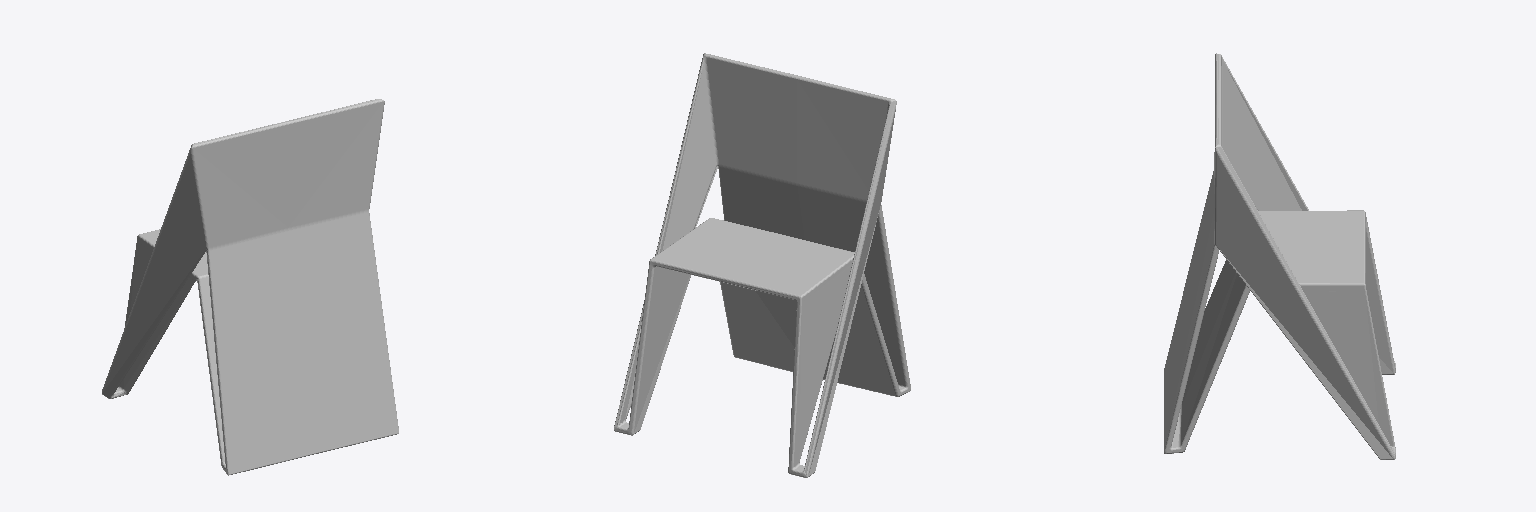
The model's file is modern_chair_A45.obj.
3 renders of one model, left to right at view 1: azimuth 30°, elevation 25°; view 2: azimuth 150°, elevation 25°; view 3: azimuth 270°, elevation 25°, orthographic.
Visible parts, largest first — view 1: modern:chair; view 2: modern:chair; view 3: modern:chair.
Part boxes in pixels (left/top/right/bottom): modern:chair: left=102, top=99, right=398, bottom=475; modern:chair: left=614, top=53, right=910, bottom=477; modern:chair: left=1164, top=53, right=1395, bottom=459.
Bounding box in the file's own units: 35.81 × 55.12 × 36.9.